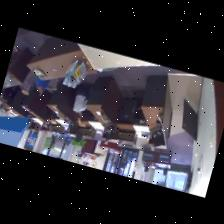person: (74, 84, 90, 121), (35, 76, 57, 96)
